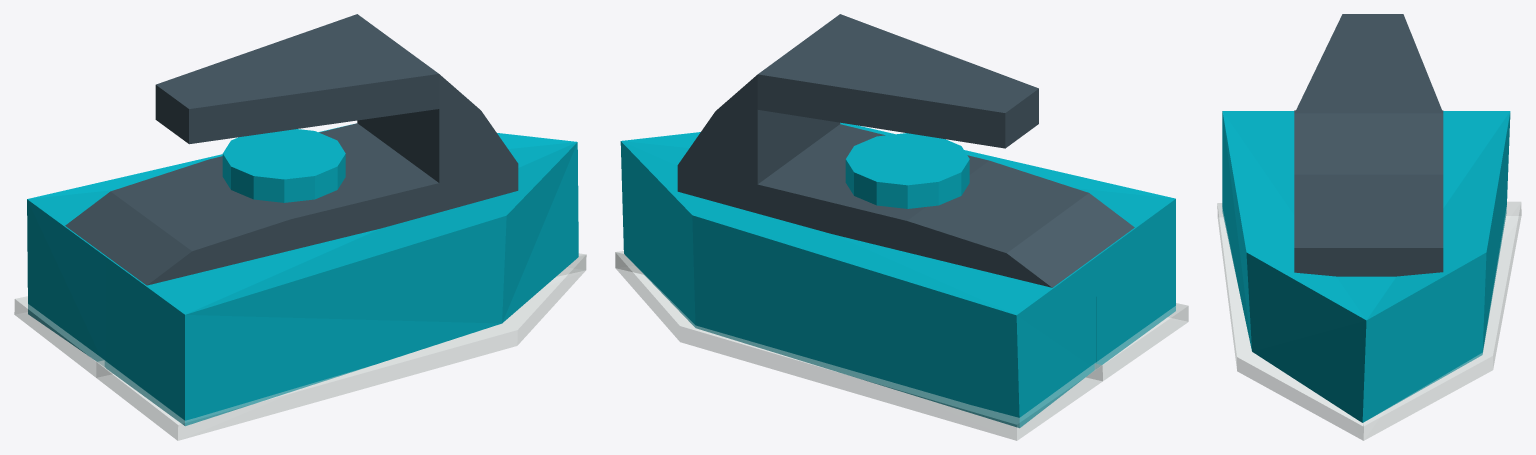
File: iron-by-anastasiia-ku-81MorTR-0ai.glb
3 renders of one model, left to right at view 1: azimuth 30°, elevation 25°; view 2: azimuth 150°, elevation 25°; view 3: azimuth 270°, elevation 25°, orthographic. The views are drawn at different scales.
Parts seen in each view (by area): view 1: group212913457, group829816957, group1493594000, group1247610520, group1823643200; view 2: group1247610520, group829816957, group1493594000, group212913457, group1823643200; view 3: group829816957, group212913457, group1247610520, group1493594000.
Part boxes in pixels (bbox=[...]): group212913457: bbox=[106, 142, 578, 425]; group829816957: bbox=[65, 14, 518, 285]; group1493594000: bbox=[14, 253, 586, 440]; group1247610520: bbox=[27, 124, 576, 367]; group1823643200: bbox=[222, 129, 345, 202]; group1247610520: bbox=[620, 141, 1096, 427]; group829816957: bbox=[677, 14, 1134, 287]; group1493594000: bbox=[615, 251, 1188, 440]; group212913457: bbox=[621, 122, 1175, 368]; group1823643200: bbox=[845, 133, 969, 208]; group829816957: bbox=[1294, 14, 1443, 276]; group212913457: bbox=[1222, 111, 1366, 422]; group1247610520: bbox=[1362, 111, 1510, 422]; group1493594000: bbox=[1217, 201, 1521, 440].
Size of the model in its own units: 0.6425 by 0.3384 by 0.3802.
